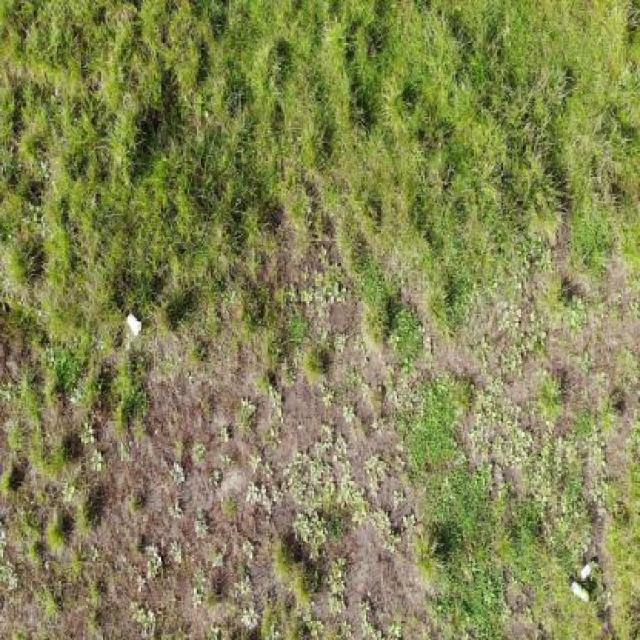Garbage: (125, 311, 141, 341), (570, 582, 590, 605), (580, 560, 595, 583)
